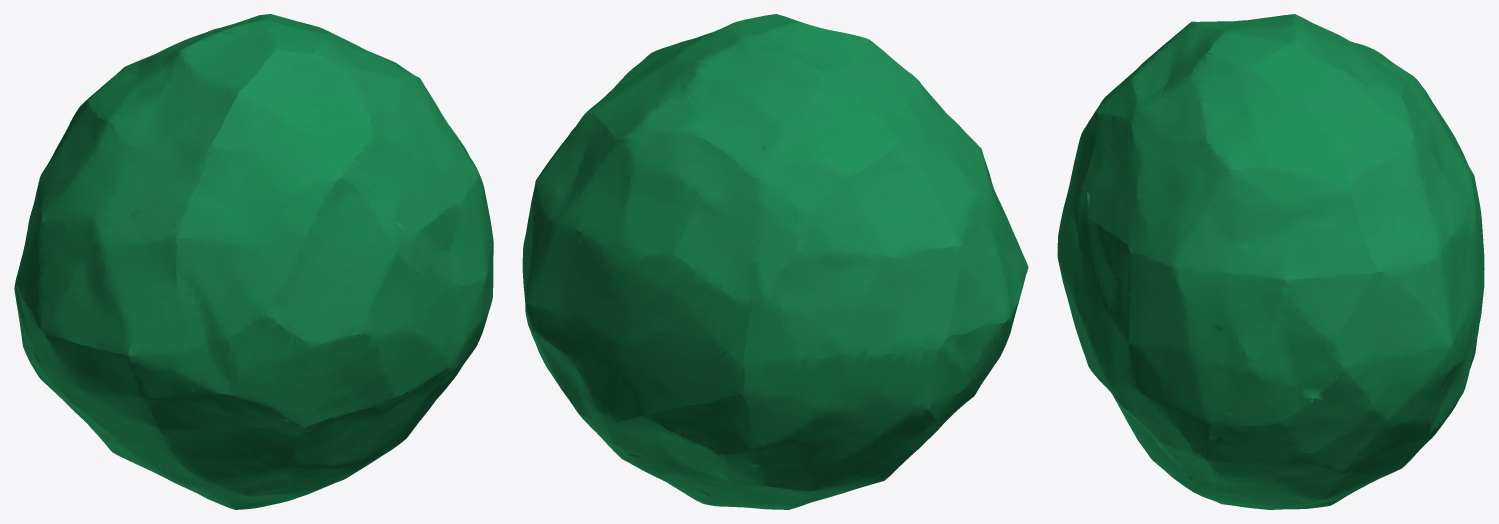
Rendered from pill_revive.glb.
The picture shows the model from 3 angles, left to right: view 1: azimuth 30°, elevation 25°; view 2: azimuth 150°, elevation 25°; view 3: azimuth 270°, elevation 25°; orthographic projection.
Parts seen in each view (by area): view 1: pill_heal; view 2: pill_heal; view 3: pill_heal.
Boxes of the visible parts, <box> form: pill_heal: <box>14,14,493,509</box>; pill_heal: <box>522,14,1028,509</box>; pill_heal: <box>1057,14,1484,509</box>.
Bounding box in the file's own units: 0.1194 × 0.12 × 0.0998.
Materials: 1 (1 with a texture image).
